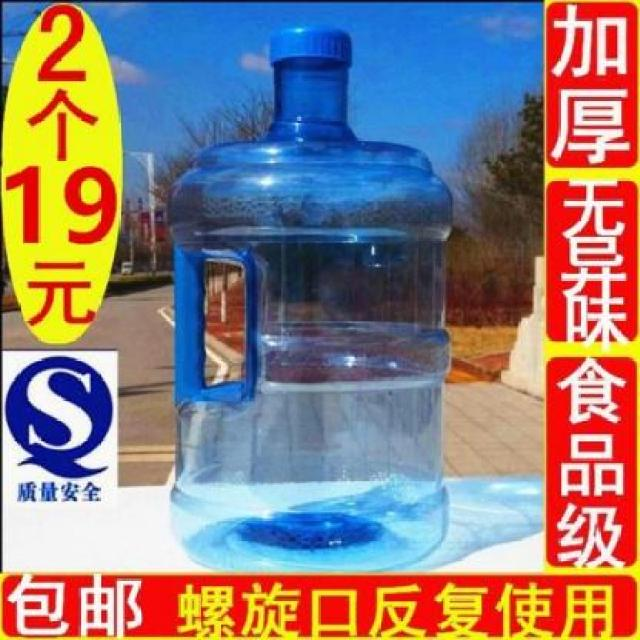coolerbottle: (165, 22, 463, 576)
